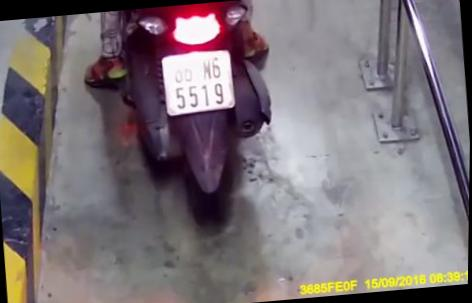LP: (159, 47, 238, 117)
